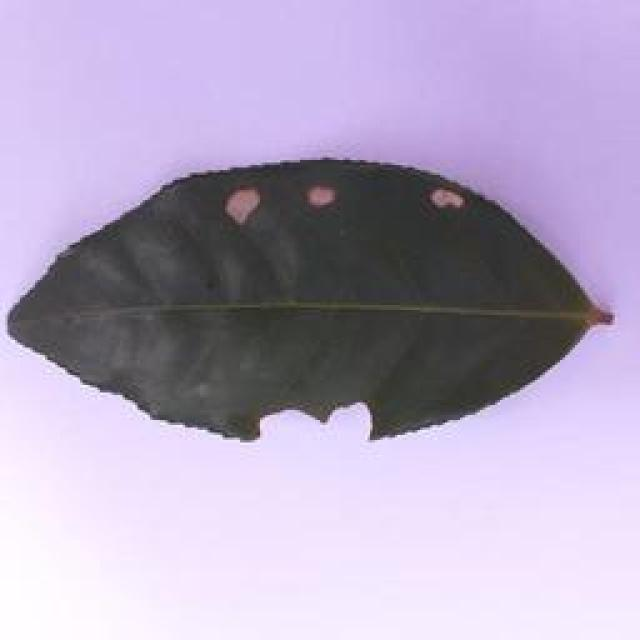Gray Blight: (0, 153, 624, 447)
